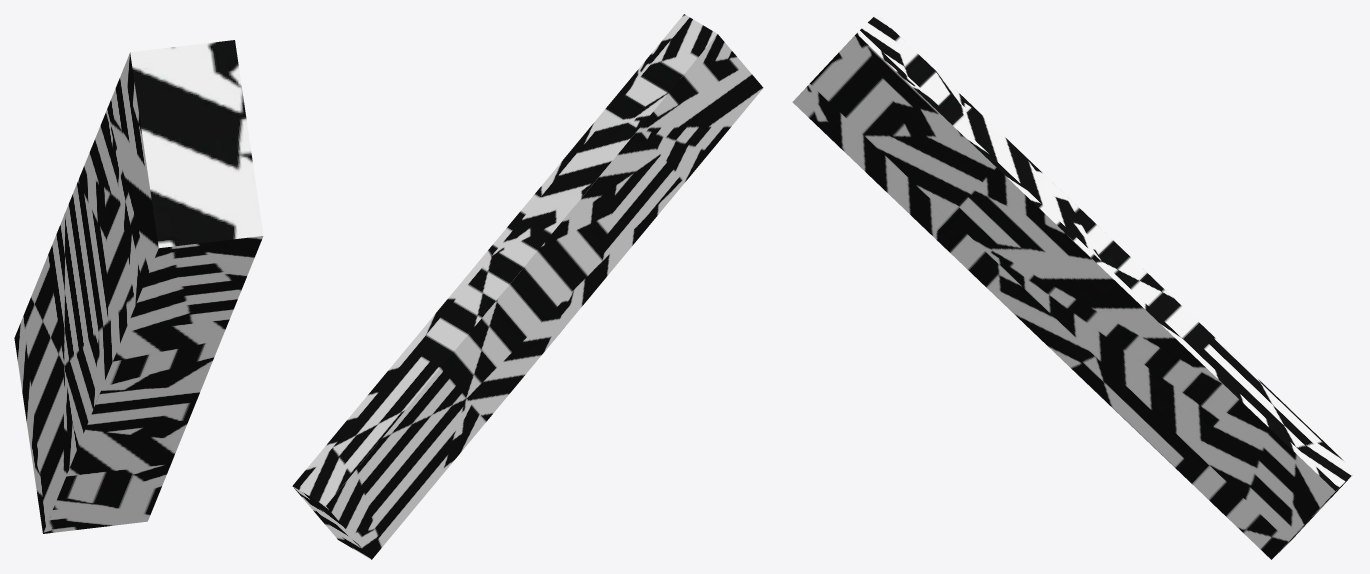
The picture shows the model from 3 angles, left to right: view 1: azimuth 30°, elevation 25°; view 2: azimuth 150°, elevation 25°; view 3: azimuth 270°, elevation 25°; orthographic projection. The views are drawn at different scales.
Parts seen in each view (by area): view 1: Cube.002; view 2: Cube.002; view 3: Cube.002.
Boxes of the visible parts, x1=… form: Cube.002: x1=14, y1=40, x2=263, y2=533; Cube.002: x1=292, y1=14, x2=763, y2=559; Cube.002: x1=792, y1=14, x2=1355, y2=559.
Size of the model in its own units: 1.45 by 2.6 by 2.95.
1 material, 1 textured.
